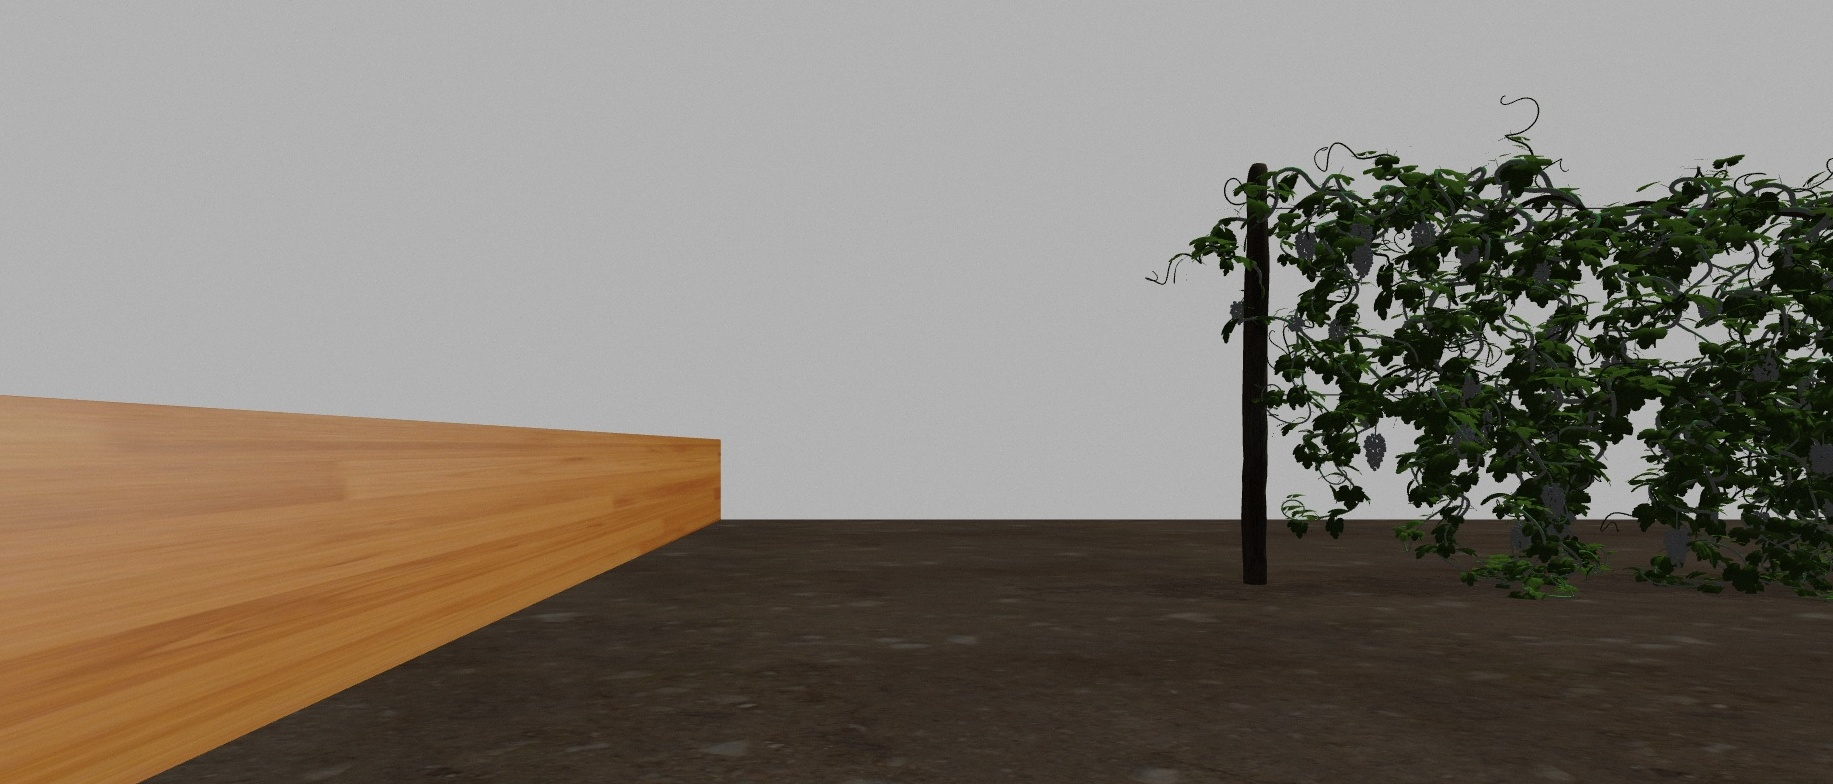grape: (1662, 527, 1693, 567), (1540, 481, 1566, 518), (1363, 433, 1386, 472), (1348, 211, 1372, 245), (1808, 443, 1832, 478), (1508, 525, 1533, 557), (1294, 231, 1317, 264), (1409, 220, 1437, 247), (1351, 245, 1374, 276), (1229, 301, 1244, 324)
